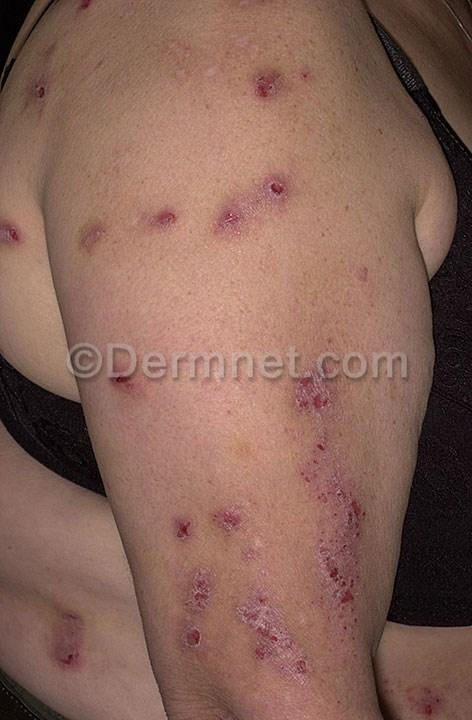Eczema: (286, 427, 377, 502), (159, 568, 234, 654), (36, 597, 107, 676), (230, 52, 301, 127), (289, 348, 352, 427), (124, 194, 202, 257), (10, 40, 74, 116), (234, 162, 302, 231), (228, 578, 296, 642), (84, 346, 148, 412), (204, 198, 264, 264), (301, 538, 363, 600), (212, 490, 269, 557), (317, 494, 388, 542), (150, 503, 207, 562), (72, 216, 122, 278), (263, 640, 321, 693), (317, 588, 369, 643), (344, 244, 387, 309), (395, 670, 456, 711), (0, 202, 37, 264), (281, 52, 330, 96), (436, 642, 472, 692), (62, 0, 106, 24)
